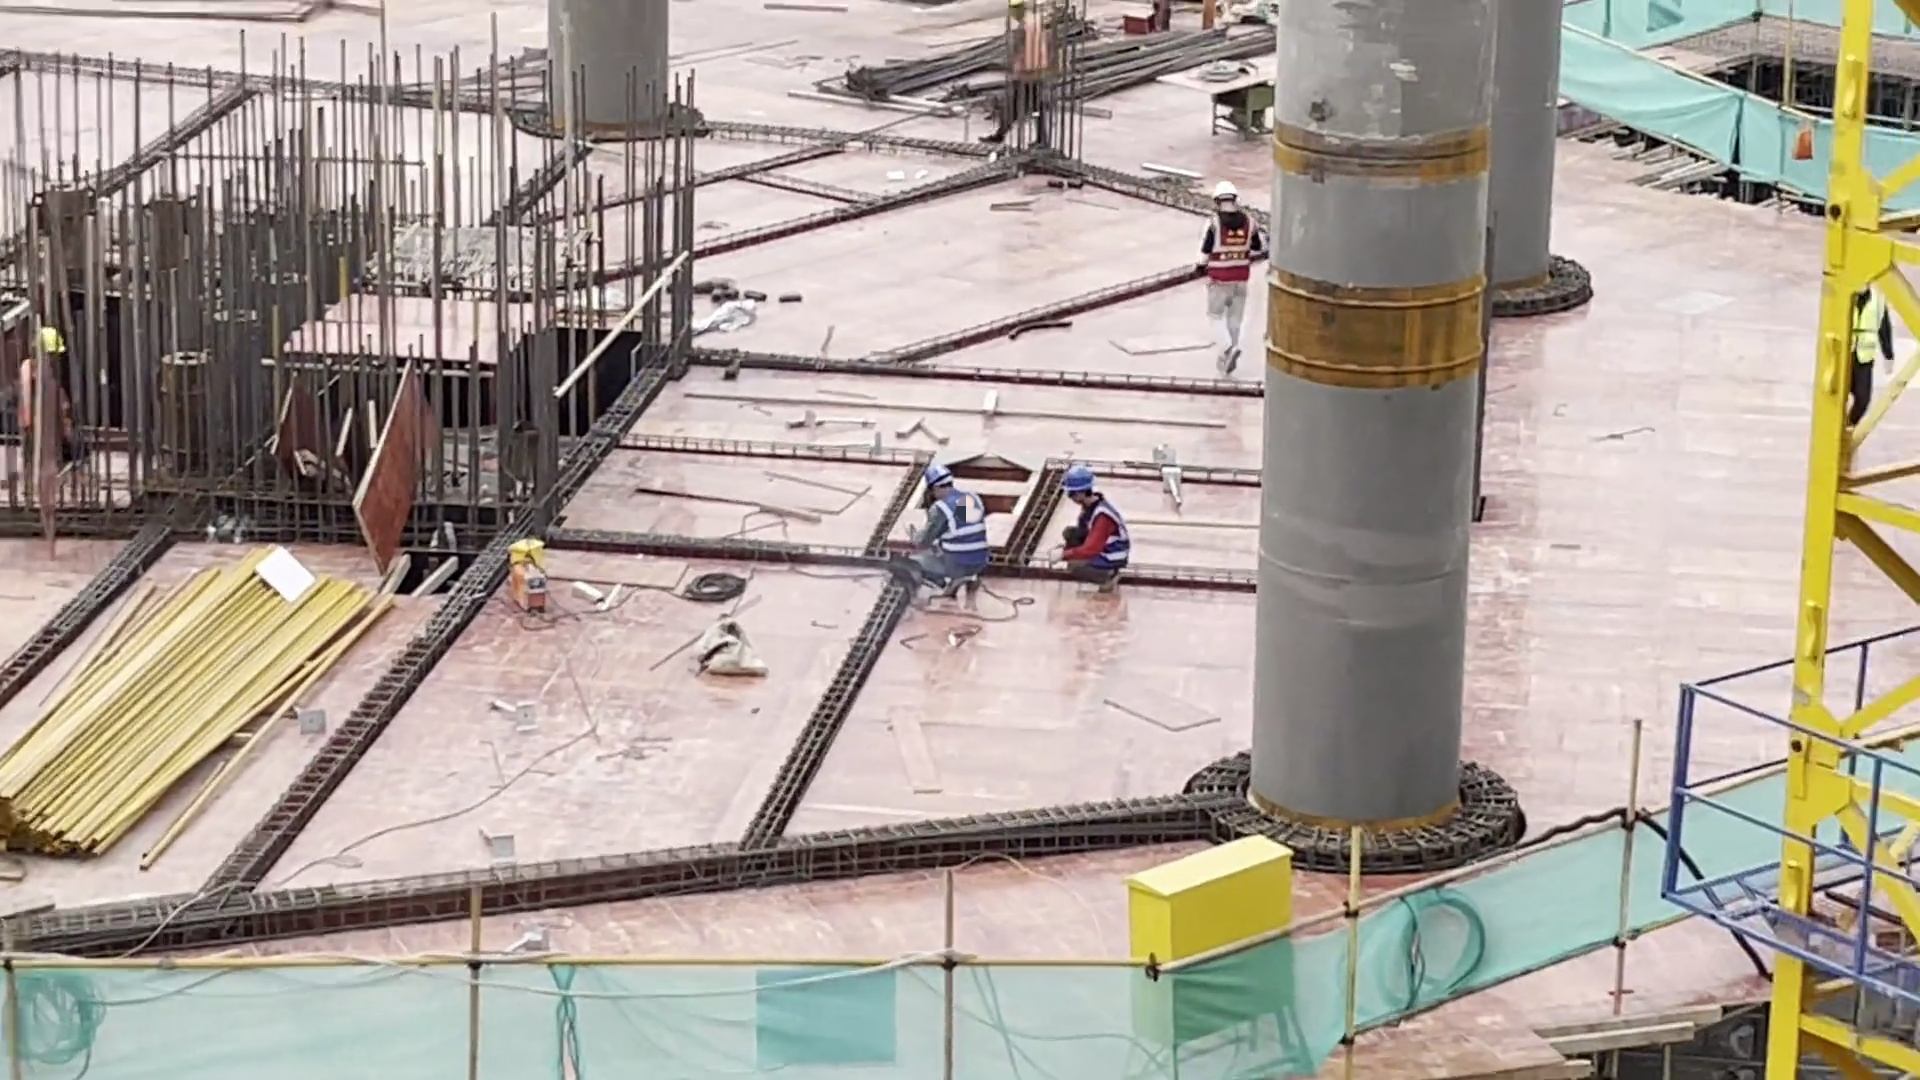helmet: (1060, 467, 1097, 492), (922, 461, 951, 487), (1210, 179, 1238, 200)
person: (904, 456, 991, 605), (1051, 465, 1142, 605), (1202, 178, 1263, 374)
vest: (927, 493, 992, 571), (1077, 501, 1136, 572), (1207, 210, 1254, 284)
